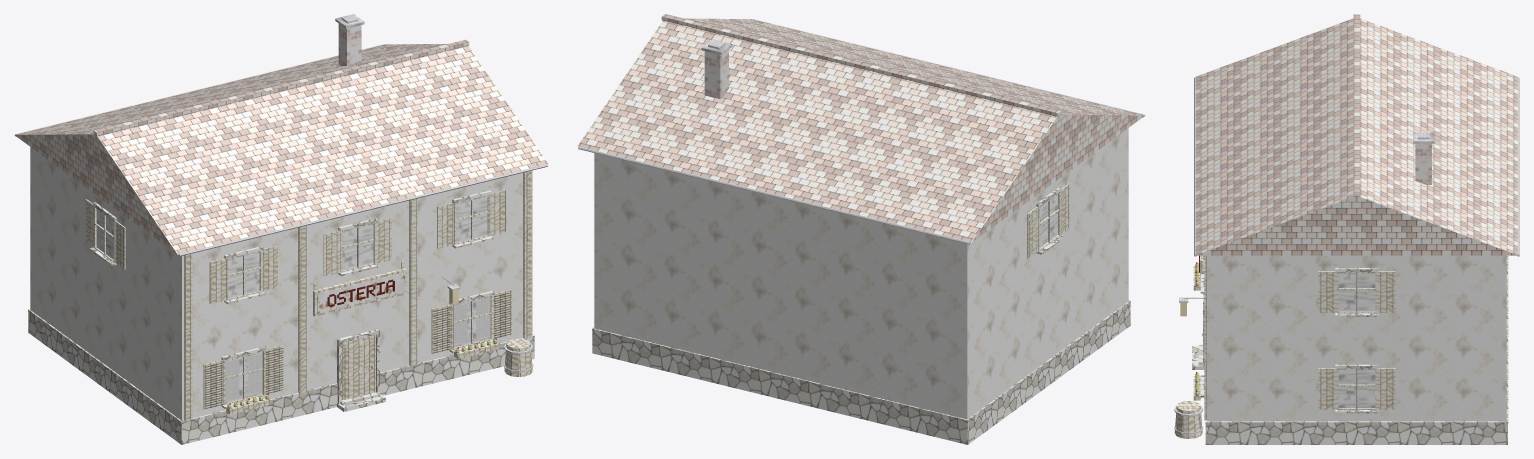
Rendered from osteria.obj.
3 views of the same model, side by side, from view 1: azimuth 30°, elevation 25°; view 2: azimuth 150°, elevation 25°; view 3: azimuth 270°, elevation 25° (orthographic). The views are drawn at different scales.
Parts seen in each view (by area): view 1: tegole_002, intonaco_000, pietra_001, legno_007, legno_024, legno_034, metallo_003, insegna_009, legno_051, legno_043, legno_047, vetro_044 (+18 smaller); view 2: intonaco_000, tegole_002, pietra_001, metallo_003, mattone_004, legno_063, vetro_060; view 3: tegole_002, intonaco_000, pietra_001, legno_055, legno_059, vetro_052, vetro_056, legno_013, metallo_003, mattone_004, legno_053, legno_057 (+3 smaller).
Part boxes in pixels (x1=…): tegole_002: x1=14, y1=39, x2=548, y2=254; intonaco_000: x1=30, y1=147, x2=532, y2=420; pietra_001: x1=28, y1=309, x2=534, y2=444; legno_007: x1=184, y1=170, x2=531, y2=421; legno_024: x1=203, y1=345, x2=283, y2=409; legno_034: x1=431, y1=289, x2=511, y2=353; metallo_003: x1=15, y1=44, x2=547, y2=256; insegna_009: x1=317, y1=272, x2=404, y2=313; legno_051: x1=323, y1=218, x2=391, y2=276; legno_043: x1=209, y1=246, x2=277, y2=304; legno_047: x1=437, y1=190, x2=505, y2=248; vetro_044: x1=456, y1=196, x2=487, y2=242; intonaco_000: x1=594, y1=128, x2=1128, y2=419; tegole_002: x1=577, y1=14, x2=1145, y2=242; pietra_001: x1=592, y1=300, x2=1130, y2=444; metallo_003: x1=578, y1=19, x2=1144, y2=244; mattone_004: x1=704, y1=49, x2=728, y2=98; legno_063: x1=1027, y1=183, x2=1069, y2=258; vetro_060: x1=1040, y1=194, x2=1057, y2=247; tegole_002: x1=1195, y1=14, x2=1518, y2=255; intonaco_000: x1=1207, y1=255, x2=1506, y2=421; pietra_001: x1=1205, y1=255, x2=1508, y2=444; legno_055: x1=1318, y1=368, x2=1395, y2=409; legno_059: x1=1318, y1=271, x2=1395, y2=312; vetro_052: x1=1338, y1=369, x2=1375, y2=408; vetro_056: x1=1338, y1=273, x2=1375, y2=311; legno_013: x1=1174, y1=401, x2=1202, y2=438; metallo_003: x1=1194, y1=77, x2=1519, y2=256; mattone_004: x1=1415, y1=143, x2=1431, y2=184; legno_053: x1=1336, y1=368, x2=1377, y2=409; legno_057: x1=1336, y1=272, x2=1377, y2=313.
Size of the model in its own units: 12.74 by 9.09 by 10.38.
30 materials, 25 textured.
